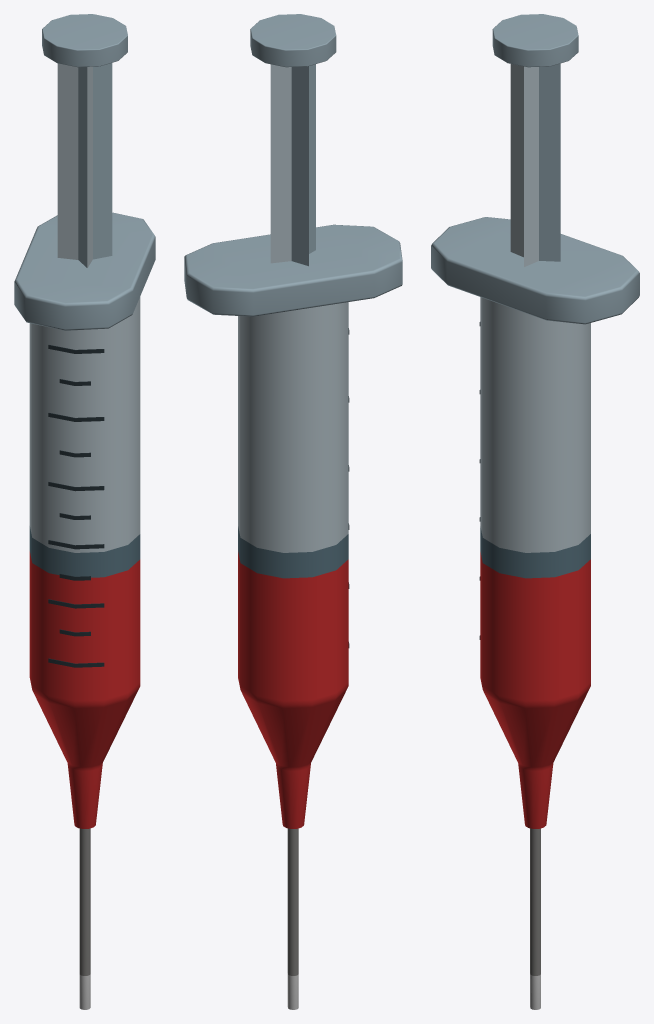
The model's file is needles.fbx.
3 views of the same model, side by side, from view 1: azimuth 30°, elevation 25°; view 2: azimuth 150°, elevation 25°; view 3: azimuth 270°, elevation 25° (orthographic).
Visible parts, largest first — view 1: needles; view 2: needles; view 3: needles.
Part boxes in pixels (x1,y1,x2,y2): needles: (14,14,155,1009); needles: (184,14,402,1009); needles: (431,14,639,1009).
Bounding box in the file's own units: 20.79 × 115 × 22.31.
